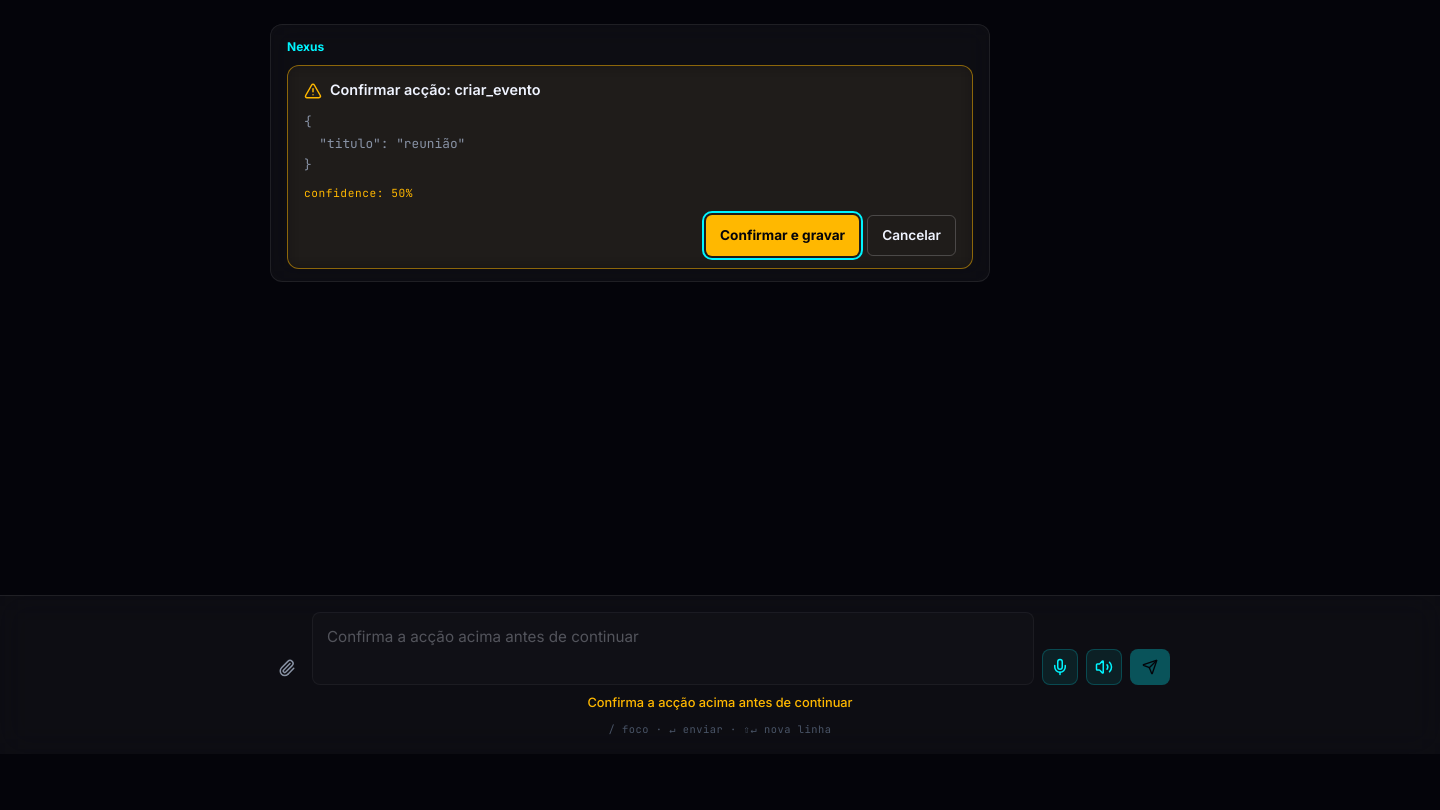
Test: ChatPanel — preview error handling (Story 1.9 Iter 2 Minor #4) › erro de rede do POST /api/agent/confirm é surfaced em PT-PT
Click the button with aria-label "cancelar acção" at (912, 236), box [867,215,956,256]
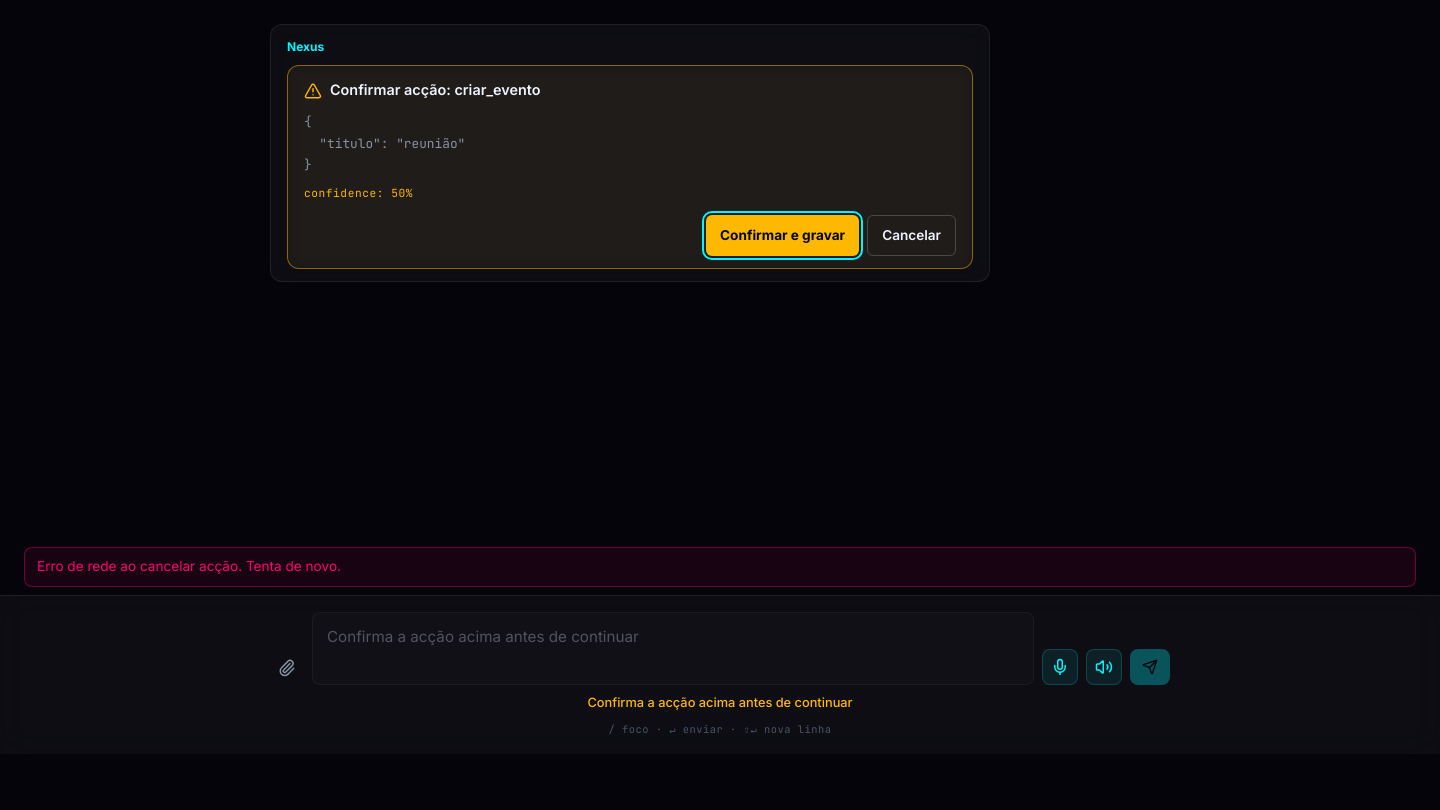
expect the text "Erro de rede ao cancelar acção. Tenta de novo." is shown: met, box [24,547,1416,587]
